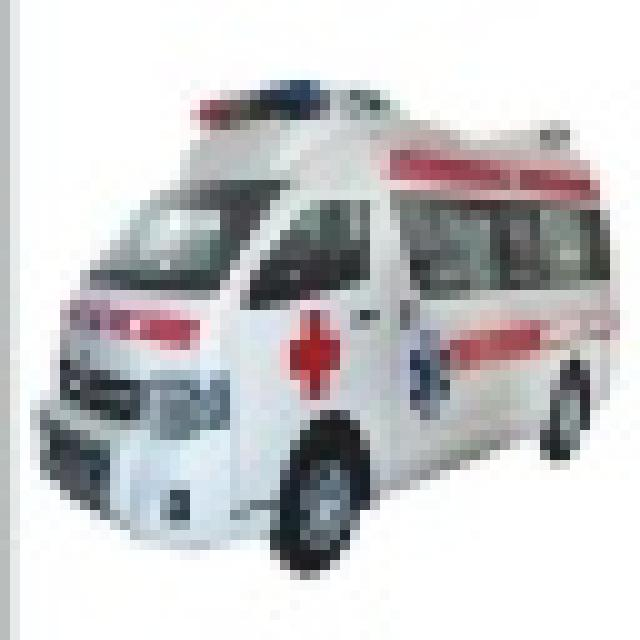Ambulance: (30, 70, 620, 570)
